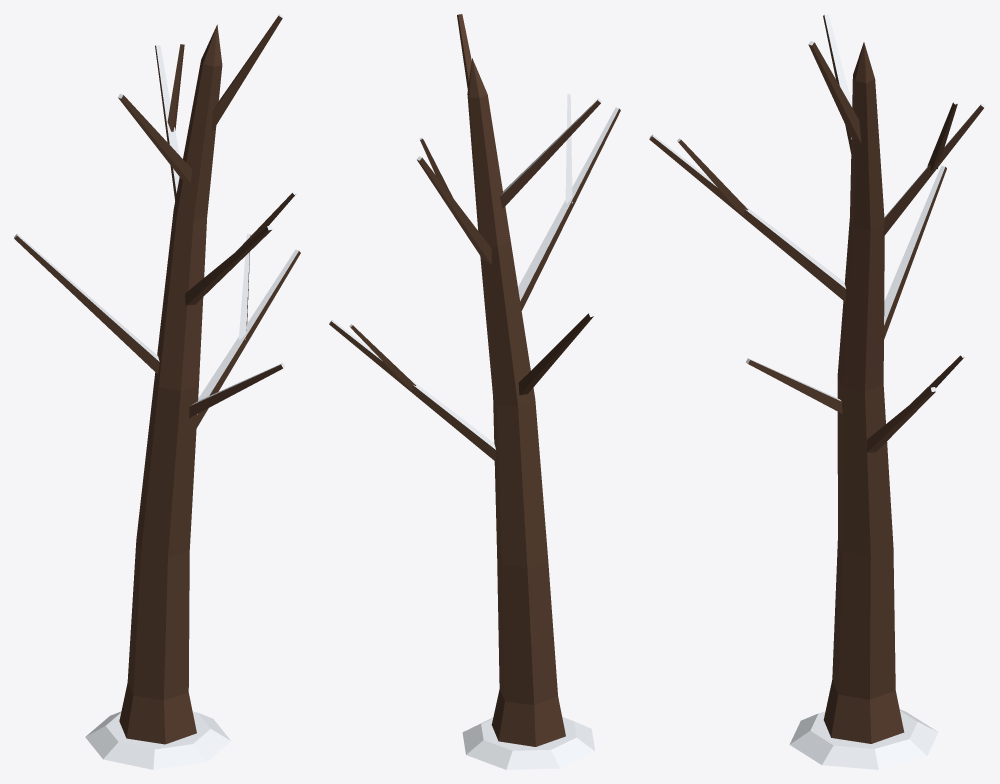
Rendered from dead_tree.glb.
3 renders of one model, left to right at view 1: azimuth 30°, elevation 25°; view 2: azimuth 150°, elevation 25°; view 3: azimuth 270°, elevation 25°, orthographic. The views are drawn at different scales.
Visible parts, largest first — view 1: Tree; view 2: Tree; view 3: Tree.
Boxes of the visible parts, x1,y1,x2,y2 form: Tree: (14,14,300,769); Tree: (329,14,620,769); Tree: (649,14,985,769).
Bounding box in the file's own units: 2 × 4.87 × 1.99.
